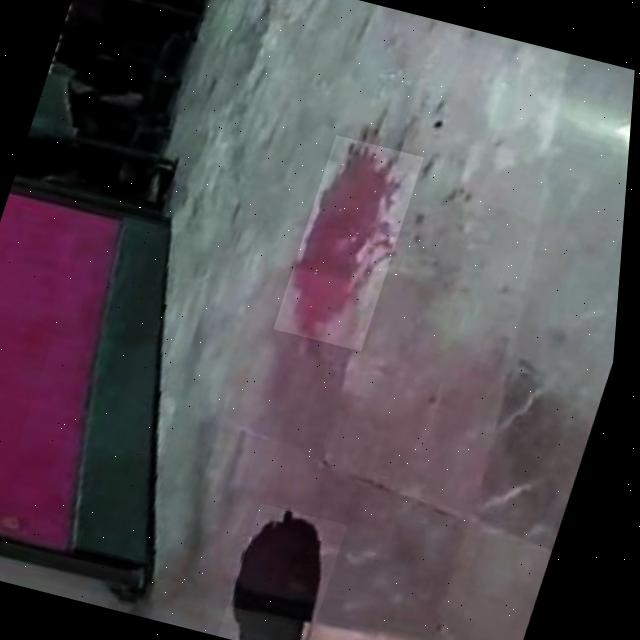spillage: (296, 144, 401, 340), (240, 509, 330, 640)
